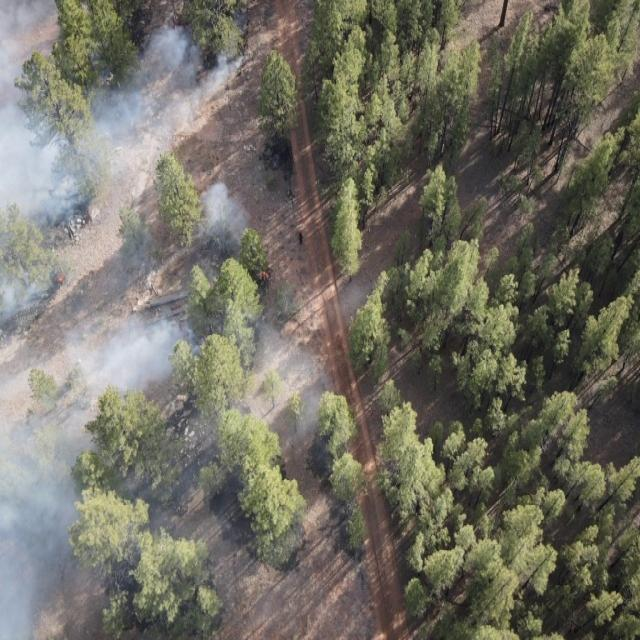fire: (255, 262, 272, 288), (54, 272, 66, 290)
smoke: (0, 307, 213, 640), (0, 0, 258, 148), (0, 146, 173, 330), (220, 316, 332, 446), (197, 173, 255, 245), (336, 272, 369, 312)
